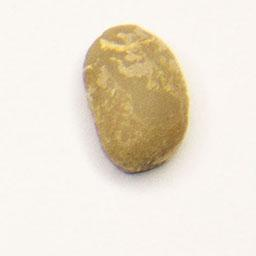premium: (79, 20, 192, 175)
